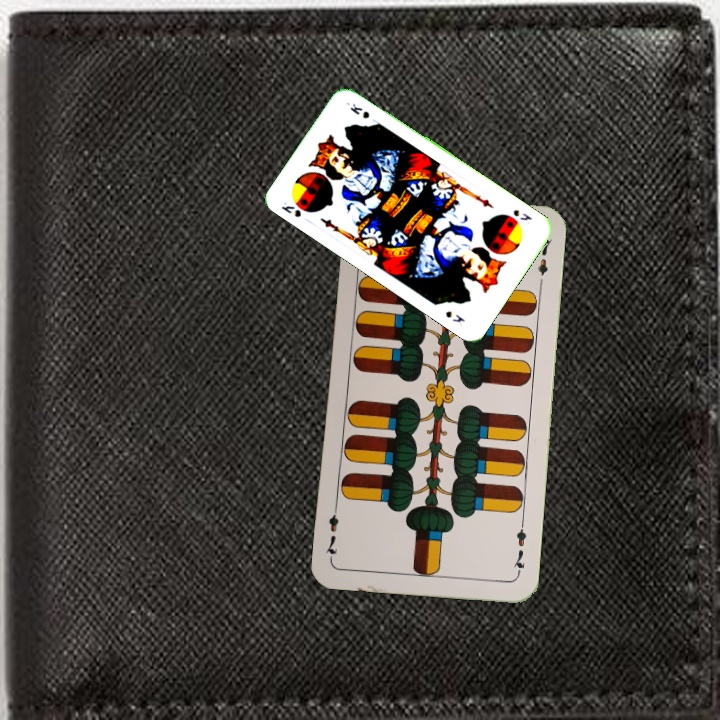E7: (509, 518, 529, 577)
SK: (277, 197, 304, 220), (509, 205, 535, 223)
